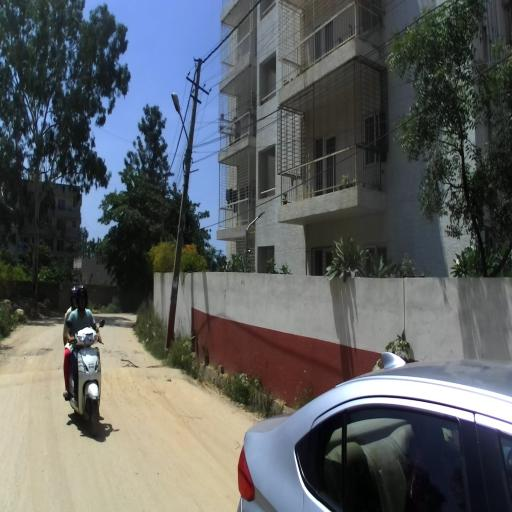street_light_0: (171, 92, 193, 164)
